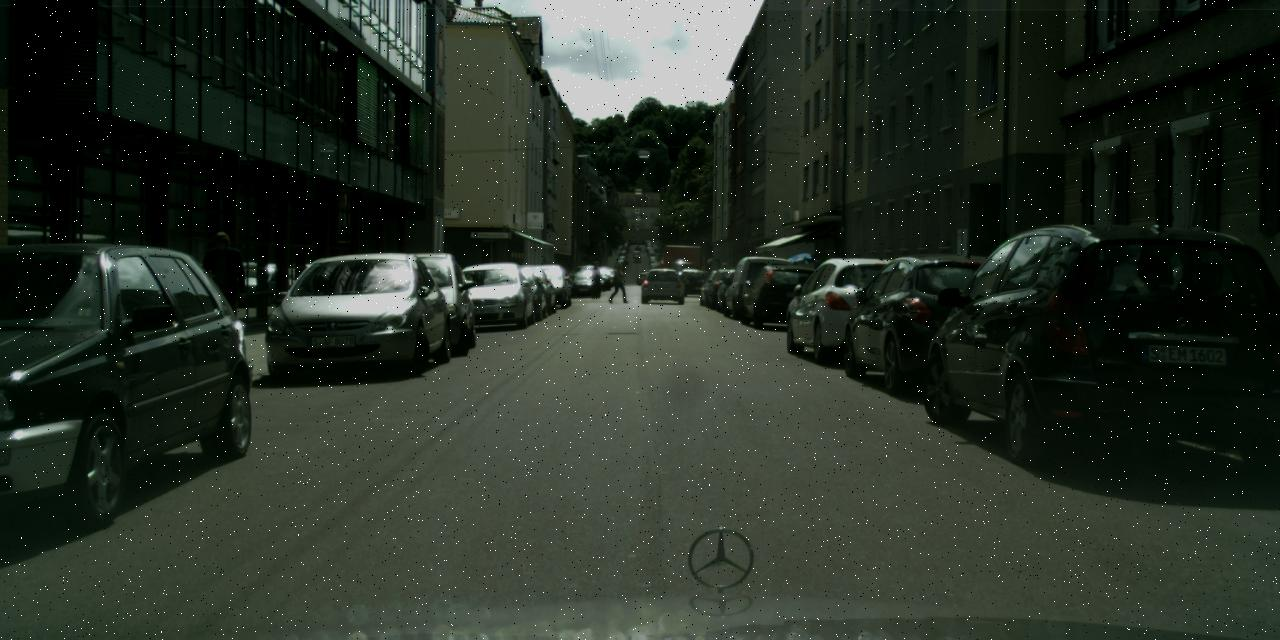ped: (197, 231, 247, 354), (609, 261, 625, 301), (588, 261, 603, 296), (719, 262, 732, 295)
